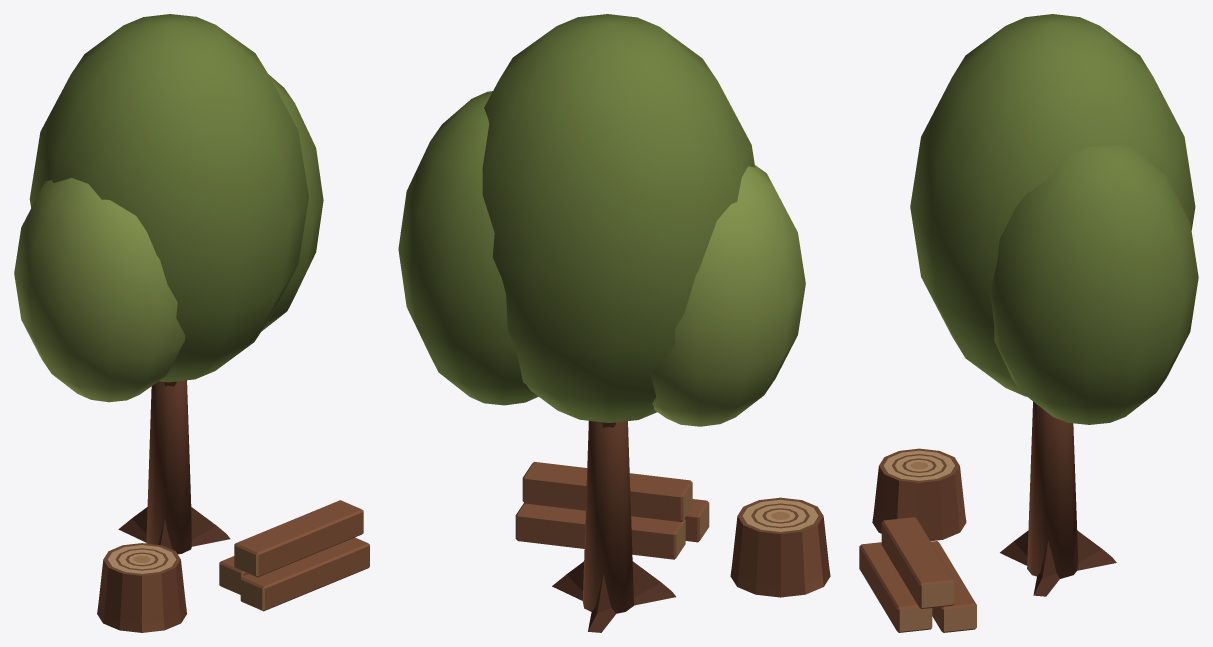
The model's file is hardwood_grove.glb.
3 renders of one model, left to right at view 1: azimuth 30°, elevation 25°; view 2: azimuth 150°, elevation 25°; view 3: azimuth 270°, elevation 25°, orthographic. The views are drawn at different scales.
Visible parts, largest first — view 1: hardwood_grove; view 2: hardwood_grove; view 3: hardwood_grove.
Boxes of the visible parts, box(x1,y1,x2,y2) form: hardwood_grove: box(14, 14, 369, 632); hardwood_grove: box(398, 14, 830, 632); hardwood_grove: box(859, 14, 1198, 632).
Bounding box in the file's own units: 1.42 × 2.3 × 1.3.
